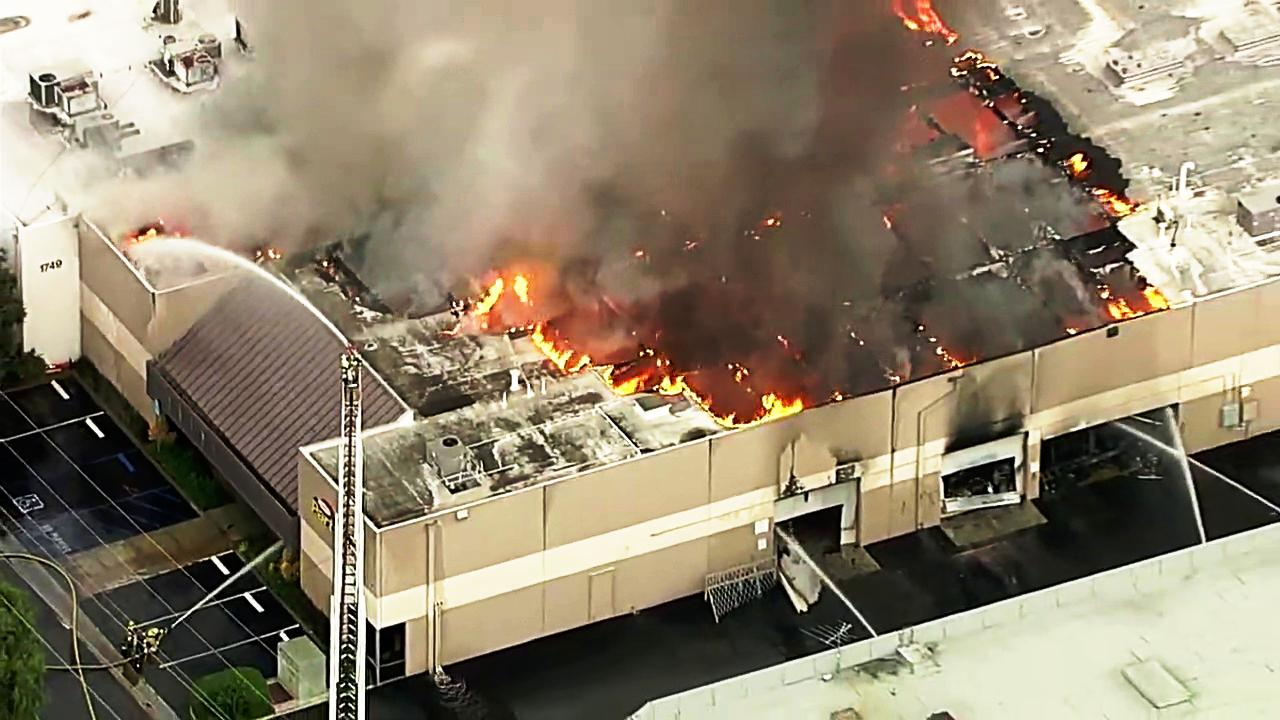smoke: (353, 0, 768, 128)
